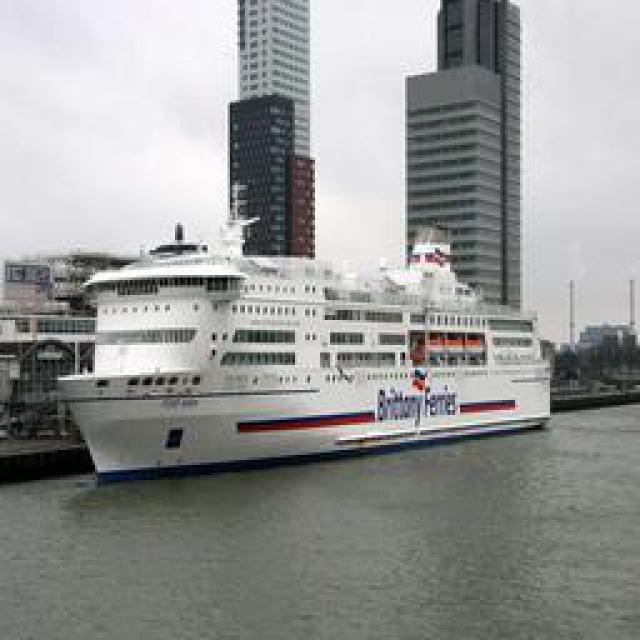Ship: (61, 217, 544, 487)
